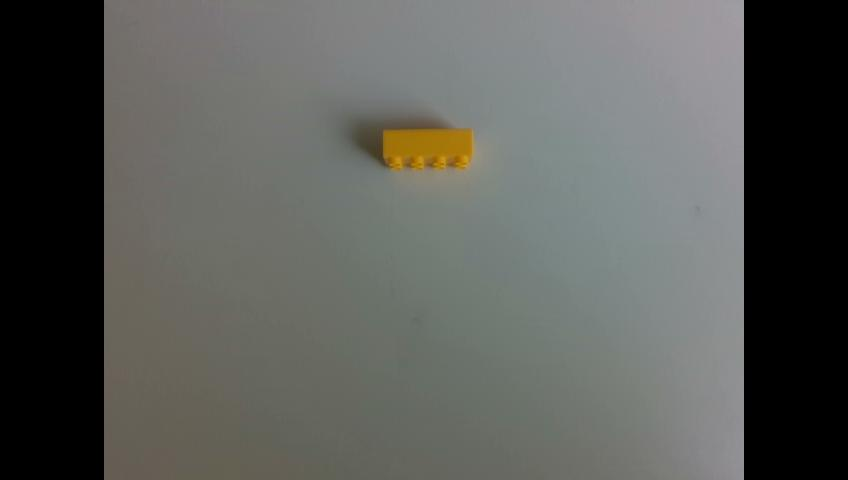4x2_yellow: (384, 128, 475, 169)
